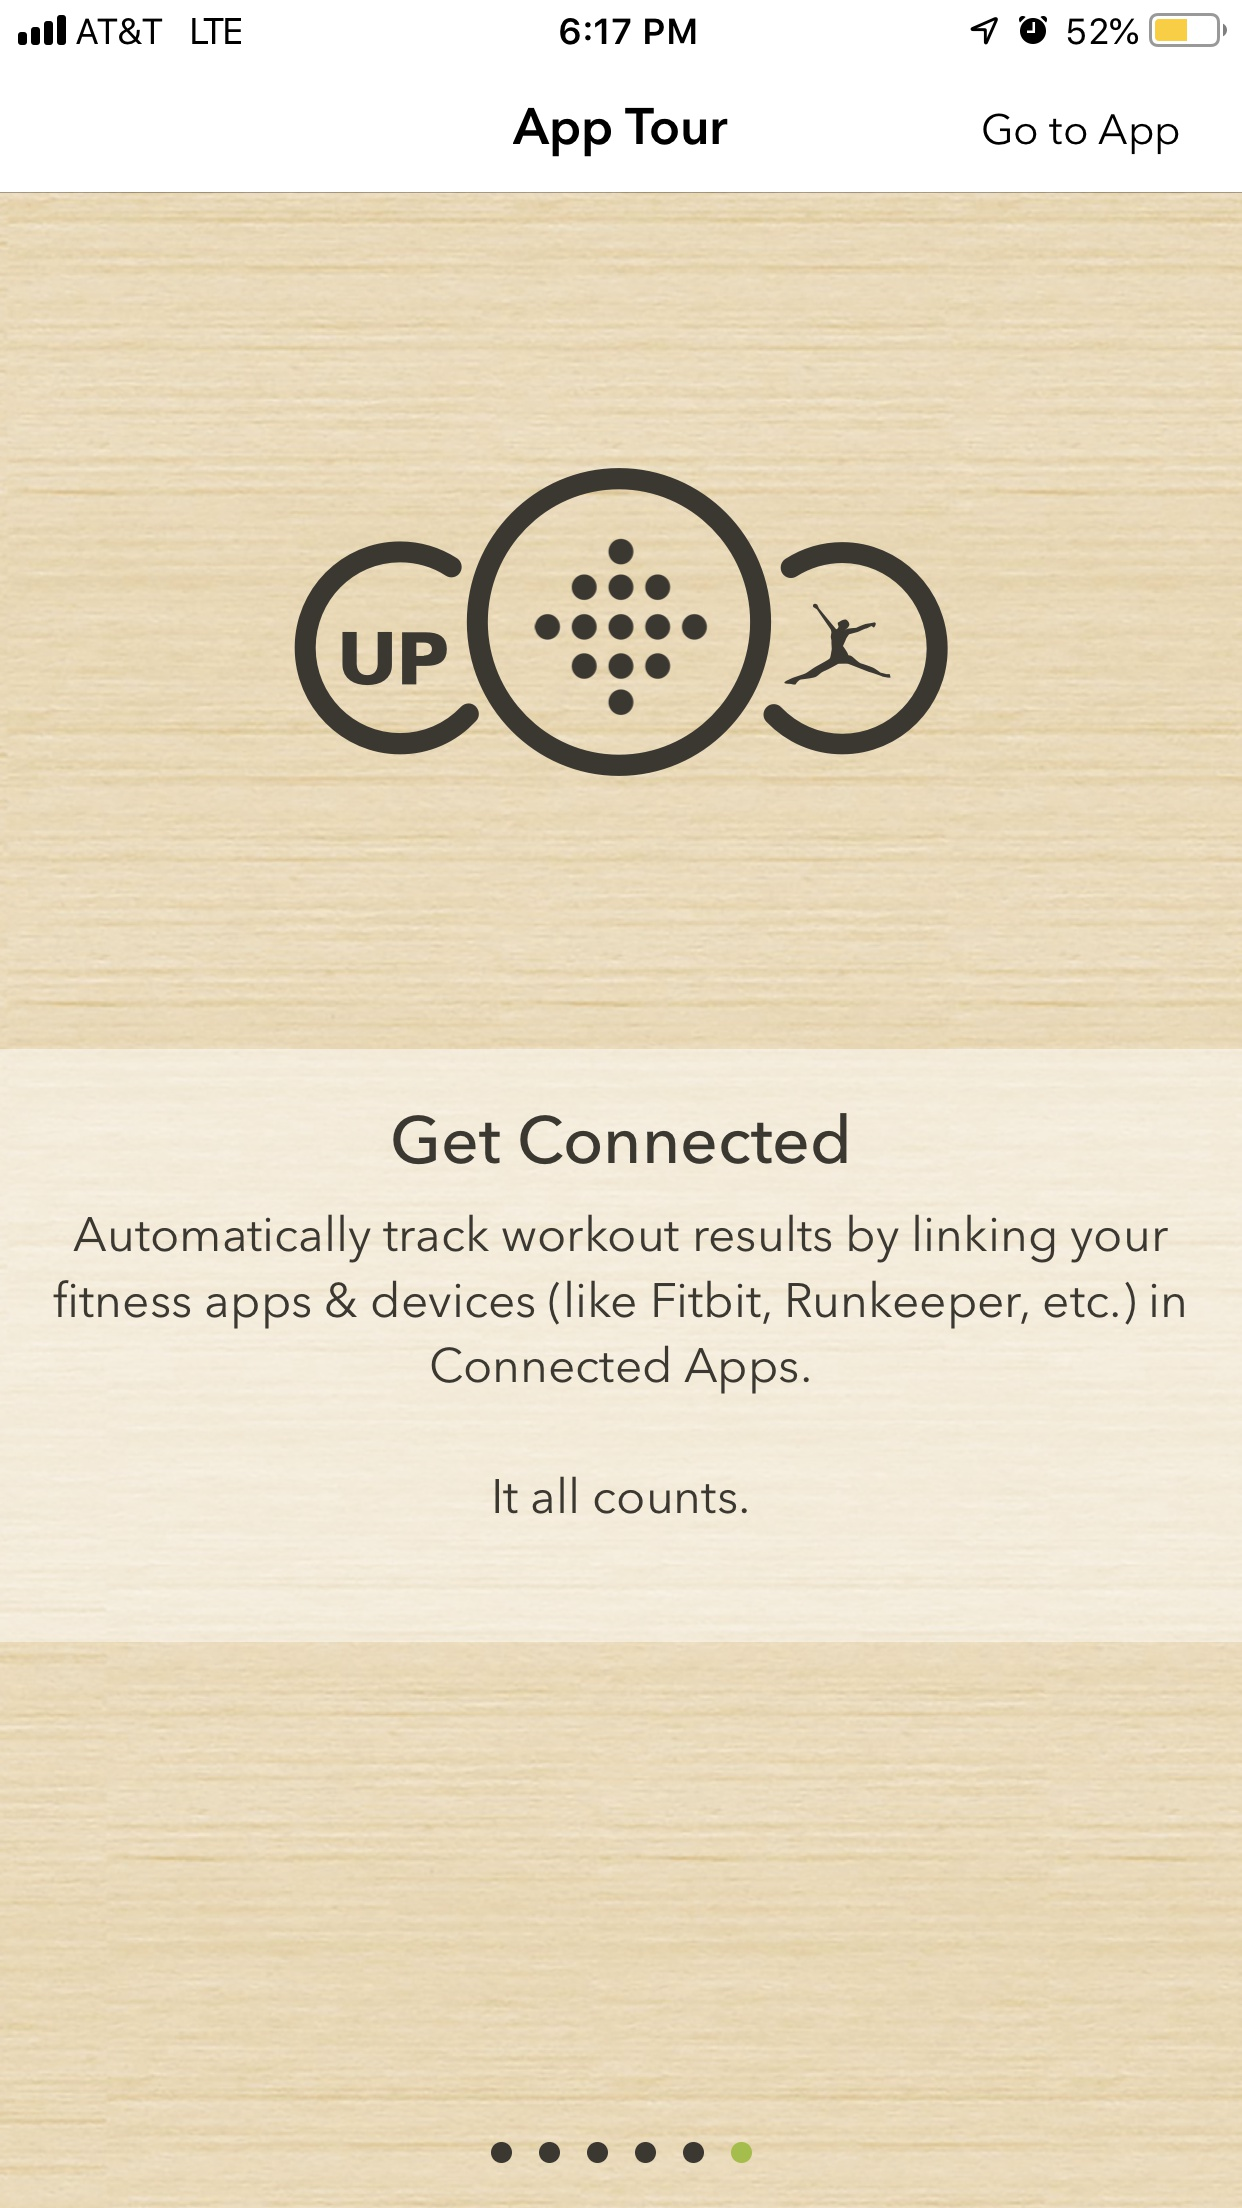Image: (293, 467, 949, 778)
PageIndicator: (490, 2140, 754, 2164)
Text: (55, 1215, 1184, 1395), (393, 1112, 848, 1165), (513, 108, 729, 158), (494, 1476, 748, 1515), (983, 114, 1178, 156)
UpperTaskBar: (2, 2, 1242, 49)
